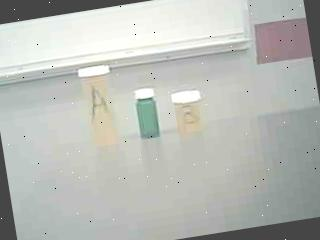Bottle A: (72, 58, 128, 156)
Bottle B: (168, 85, 209, 140)
Bottle C: (128, 82, 168, 144)
